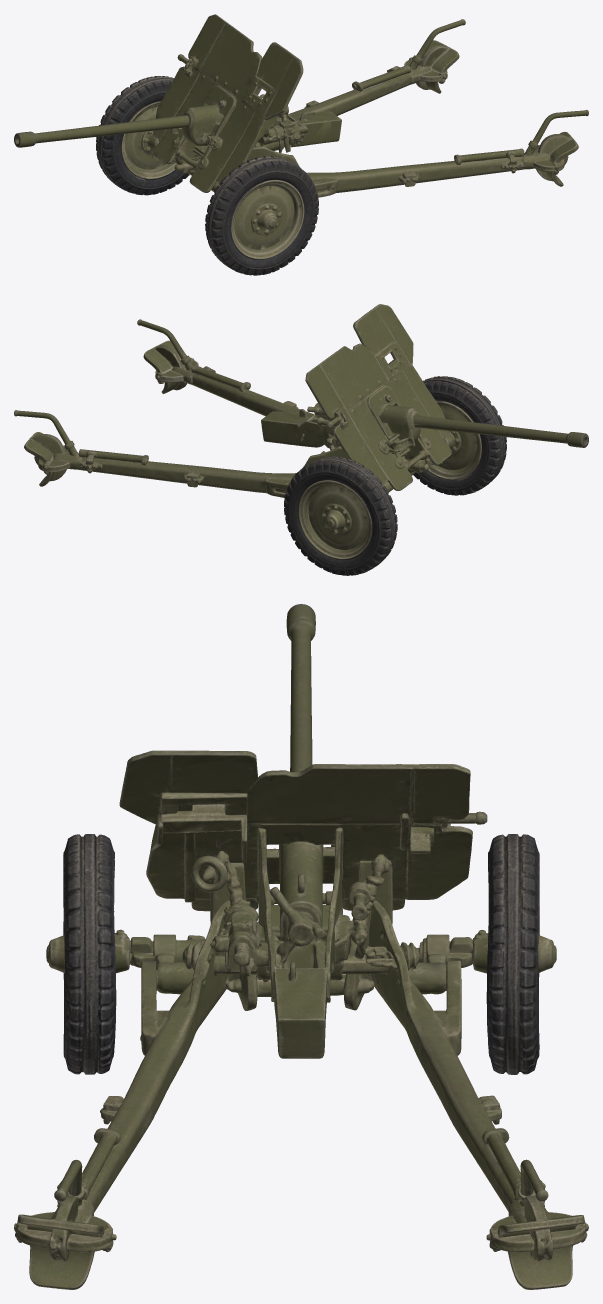
3 renders of one model, top to bottom at view 1: azimuth 30°, elevation 25°; view 2: azimuth 150°, elevation 25°; view 3: azimuth 270°, elevation 25°, orthographic. The views are drawn at different scales.
Bounding box in the file's own units: 1.9 × 0.6662 × 0.9553.
1 material, 1 textured.
